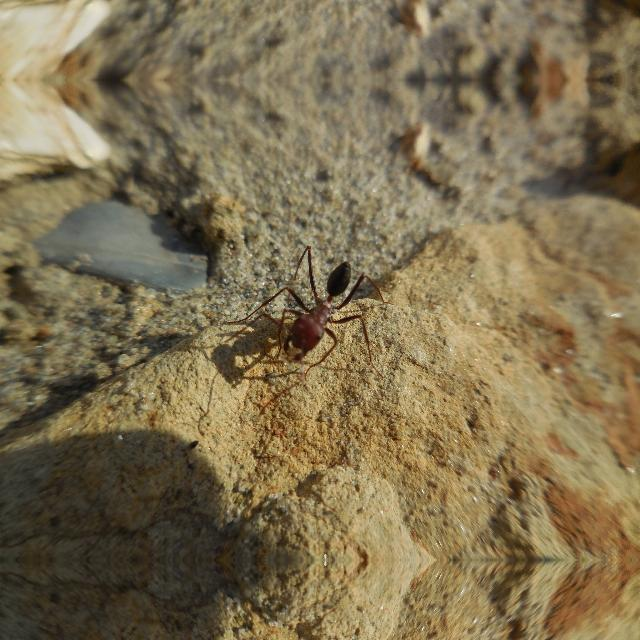Cataglyphis: (249, 250, 385, 368)
